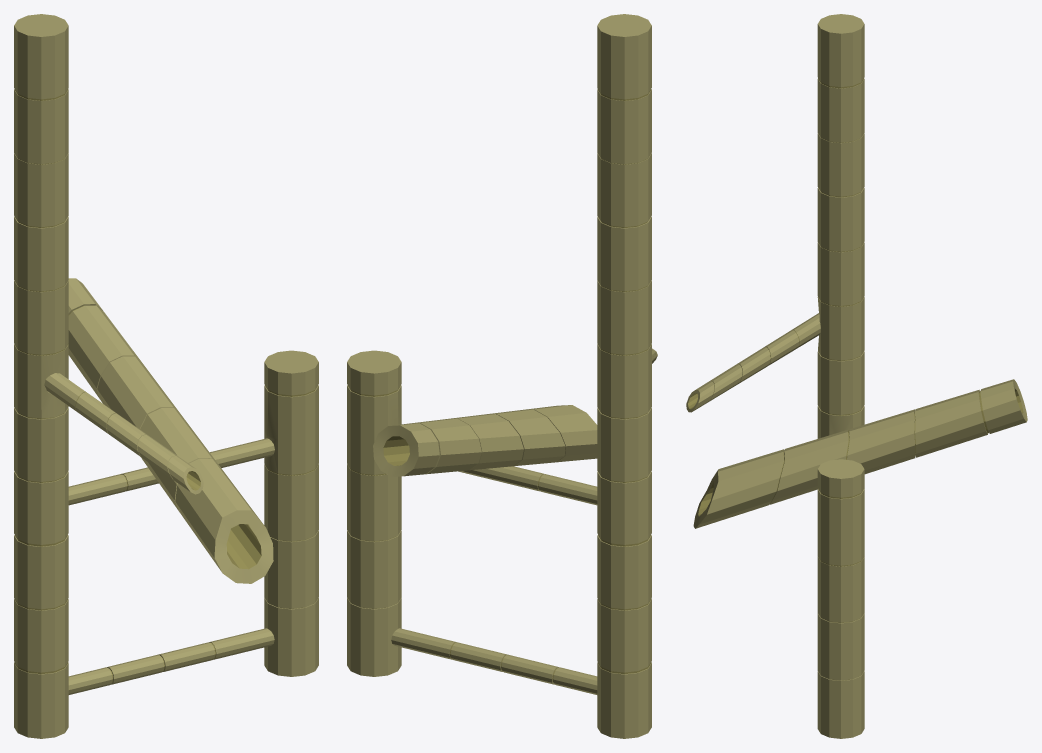
The model's file is bambu.fbx.
3 renders of one model, left to right at view 1: azimuth 30°, elevation 25°; view 2: azimuth 150°, elevation 25°; view 3: azimuth 270°, elevation 25°, orthographic. The views are drawn at different scales.
Visible parts, largest first — view 1: pCylinder1, pCylinder3, pCylinder12, pCylinder9, pCylinder13, pCylinder6; view 2: pCylinder1, pCylinder3, pCylinder12, pCylinder13, pCylinder6; view 3: pCylinder1, pCylinder12, pCylinder3, pCylinder9.
Part boxes in pixels (left/top/right/bottom): pCylinder1: left=14, top=14, right=68, bottom=738; pCylinder3: left=264, top=350, right=318, bottom=676; pCylinder12: left=68, top=278, right=273, bottom=583; pCylinder9: left=44, top=373, right=203, bottom=494; pCylinder13: left=68, top=628, right=274, bottom=694; pCylinder6: left=68, top=438, right=274, bottom=505; pCylinder1: left=597, top=14, right=651, bottom=738; pCylinder3: left=347, top=350, right=401, bottom=676; pCylinder12: left=373, top=405, right=597, bottom=476; pCylinder13: left=391, top=628, right=597, bottom=694; pCylinder6: left=458, top=466, right=597, bottom=505; pCylinder1: left=817, top=14, right=864, bottom=613; pCylinder12: left=693, top=379, right=1027, bottom=528; pCylinder3: left=817, top=459, right=864, bottom=738; pCylinder9: left=686, top=313, right=820, bottom=412.
Bounding box in the file's own units: 12.59 × 28.38 × 14.61.
